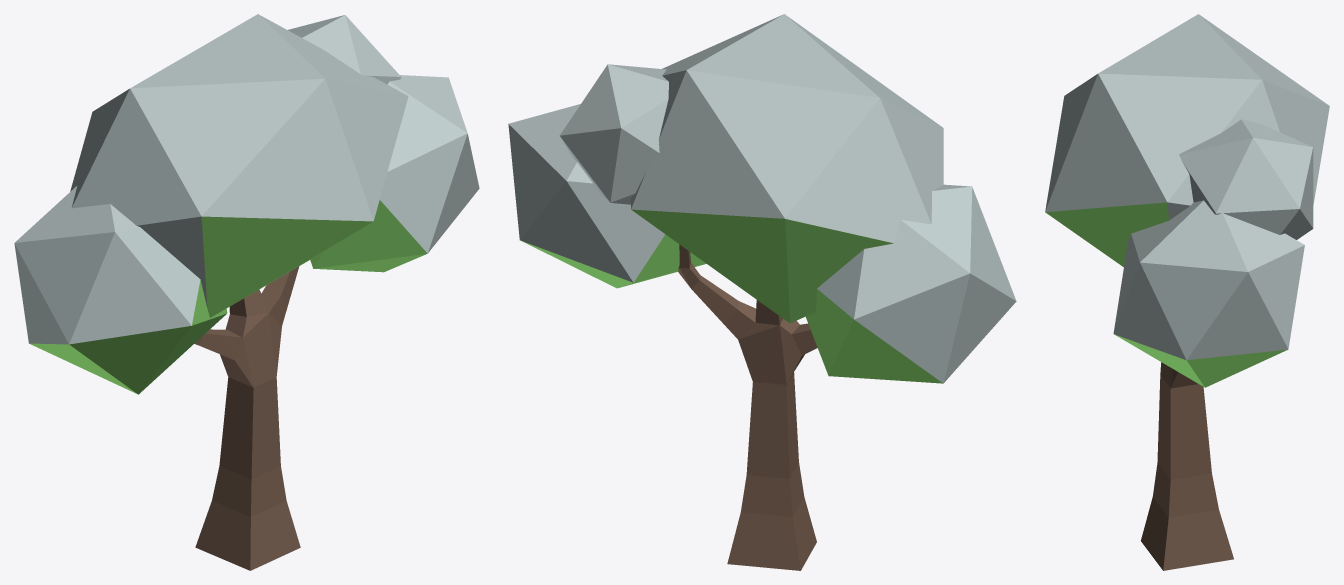
Rendered from tree_frozen2.fbx.
The picture shows the model from 3 angles, left to right: view 1: azimuth 30°, elevation 25°; view 2: azimuth 150°, elevation 25°; view 3: azimuth 270°, elevation 25°; orthographic projection.
Visible parts, largest first — view 1: tree_frozen2; view 2: tree_frozen2; view 3: tree_frozen2.
Boxes of the visible parts, x1,y1,x2,y2 form: tree_frozen2: [14, 14, 479, 570]; tree_frozen2: [508, 14, 1016, 570]; tree_frozen2: [1045, 14, 1329, 570].
Bounding box in the file's own units: 4.36 × 2.42 × 4.63.
